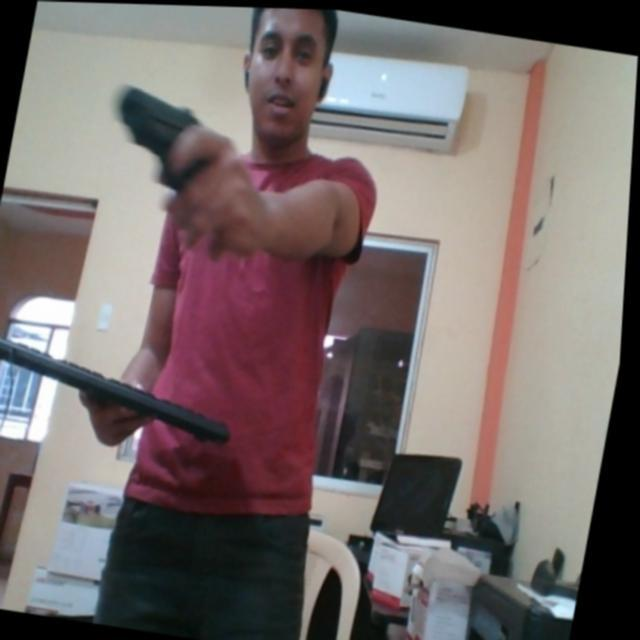weapon: (104, 79, 236, 184)
